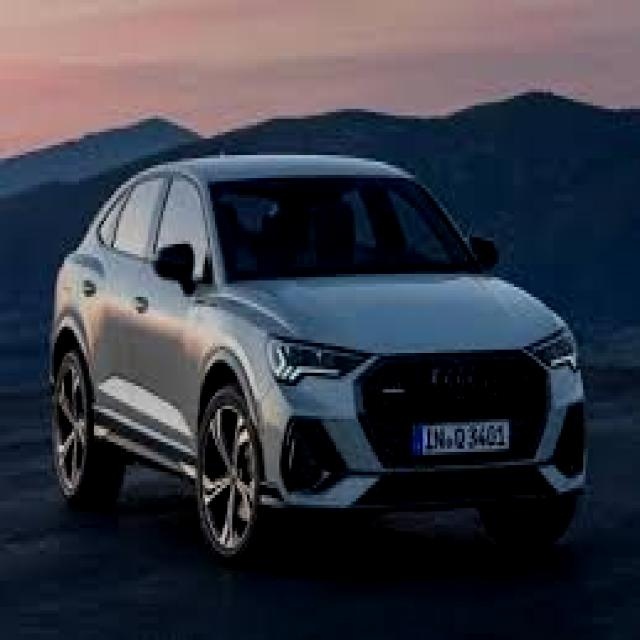SUV: (42, 145, 591, 564)
